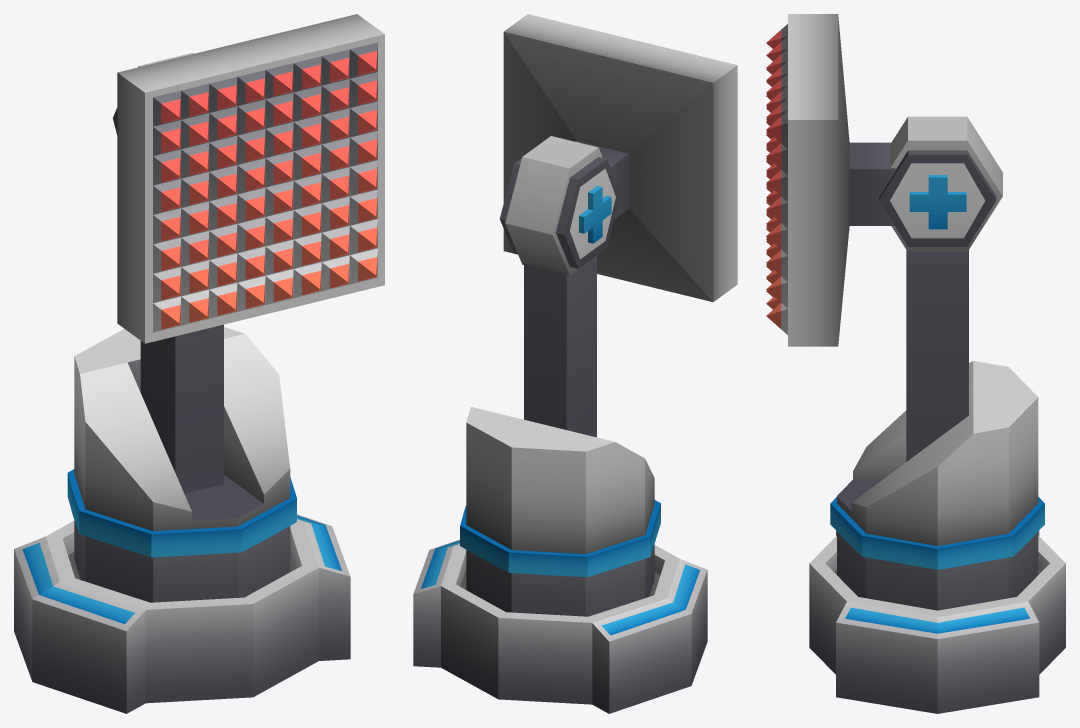
Rendered from Attendrisseur.fbx.
3 renders of one model, left to right at view 1: azimuth 30°, elevation 25°; view 2: azimuth 150°, elevation 25°; view 3: azimuth 270°, elevation 25°, orthographic. The views are drawn at different scales.
Visible parts, largest first — view 1: BrasAttendriseur, BaseRAttendriseur, Attendrisseur; view 2: BrasAttendriseur, BaseRAttendriseur, Attendrisseur; view 3: BrasAttendriseur, BaseRAttendriseur, Attendrisseur.
Boxes of the visible parts, bbox=[...] form: BrasAttendriseur: bbox=[113, 14, 384, 493]; BaseRAttendriseur: bbox=[67, 327, 296, 602]; Attendrisseur: bbox=[14, 514, 350, 713]; BrasAttendriseur: bbox=[499, 14, 737, 437]; BaseRAttendriseur: bbox=[460, 407, 660, 616]; Attendrisseur: bbox=[413, 539, 707, 713]; BrasAttendriseur: bbox=[766, 14, 1002, 461]; BaseRAttendriseur: bbox=[830, 360, 1044, 610]; Attendrisseur: bbox=[809, 531, 1065, 713].
Bounding box in the file's own units: 2 × 4.1 × 1.92.
